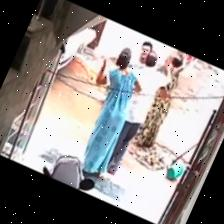person: (106, 51, 167, 175), (82, 48, 140, 177)
